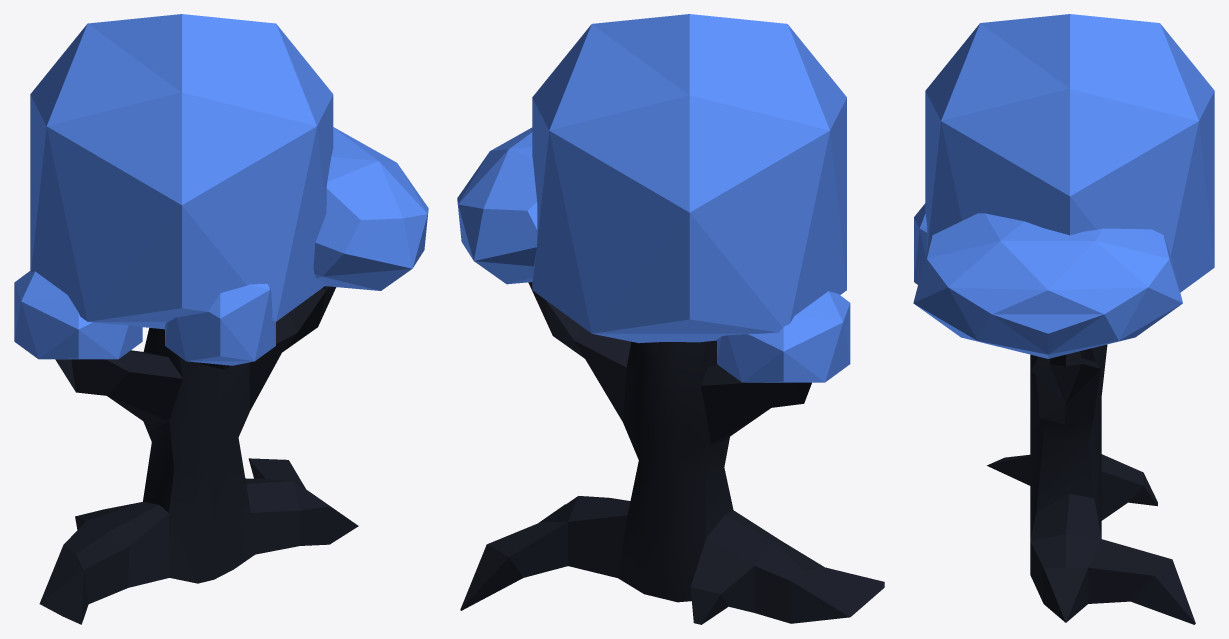
Rendered from BlueTree.FBX.
The picture shows the model from 3 angles, left to right: view 1: azimuth 30°, elevation 25°; view 2: azimuth 150°, elevation 25°; view 3: azimuth 270°, elevation 25°; orthographic projection. The views are drawn at different scales.
Parts seen in each view (by area): view 1: GeoSphere002, Box001; view 2: GeoSphere002, Box001; view 3: GeoSphere002, Box001.
Boxes of the visible parts, x1,y1,x2,y2 form: GeoSphere002: [14, 14, 428, 365]; Box001: [39, 286, 358, 624]; GeoSphere002: [457, 14, 850, 382]; Box001: [460, 282, 884, 624]; GeoSphere002: [913, 14, 1214, 358]; Box001: [987, 344, 1195, 624].
Bounding box in the file's own units: 113 × 167 × 84.46.
